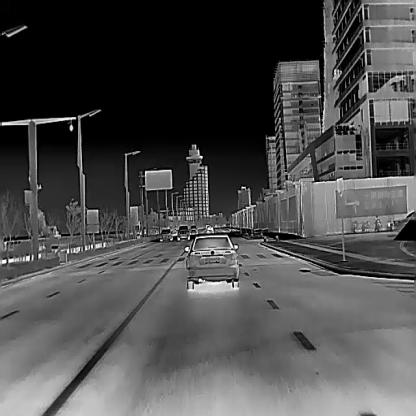car: (184, 235, 238, 288), (177, 225, 189, 240), (159, 229, 172, 240), (206, 226, 213, 233)
